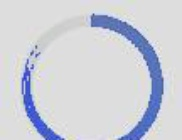ProgressBar: (1, 1, 181, 139)
